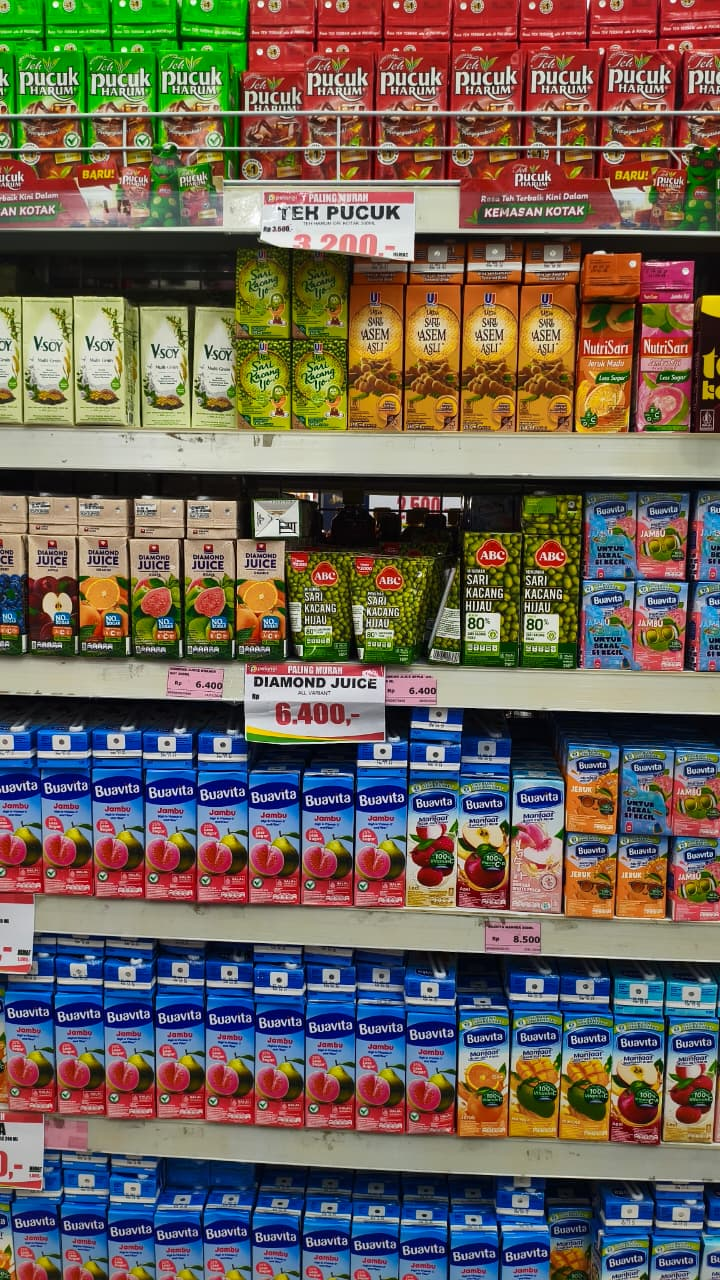Buavita: (50, 992, 106, 1110), (254, 999, 310, 1117), (155, 995, 211, 1113), (41, 771, 99, 882), (248, 776, 306, 887), (143, 775, 201, 886)
Pucuk harum: (8, 47, 89, 208), (165, 52, 246, 213), (294, 52, 375, 213), (372, 51, 453, 212), (446, 49, 527, 210), (522, 50, 603, 211), (600, 46, 681, 207)
